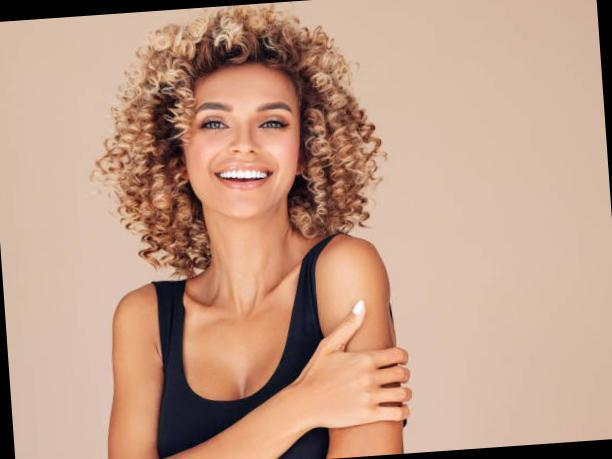Sober: (191, 75, 296, 212)
